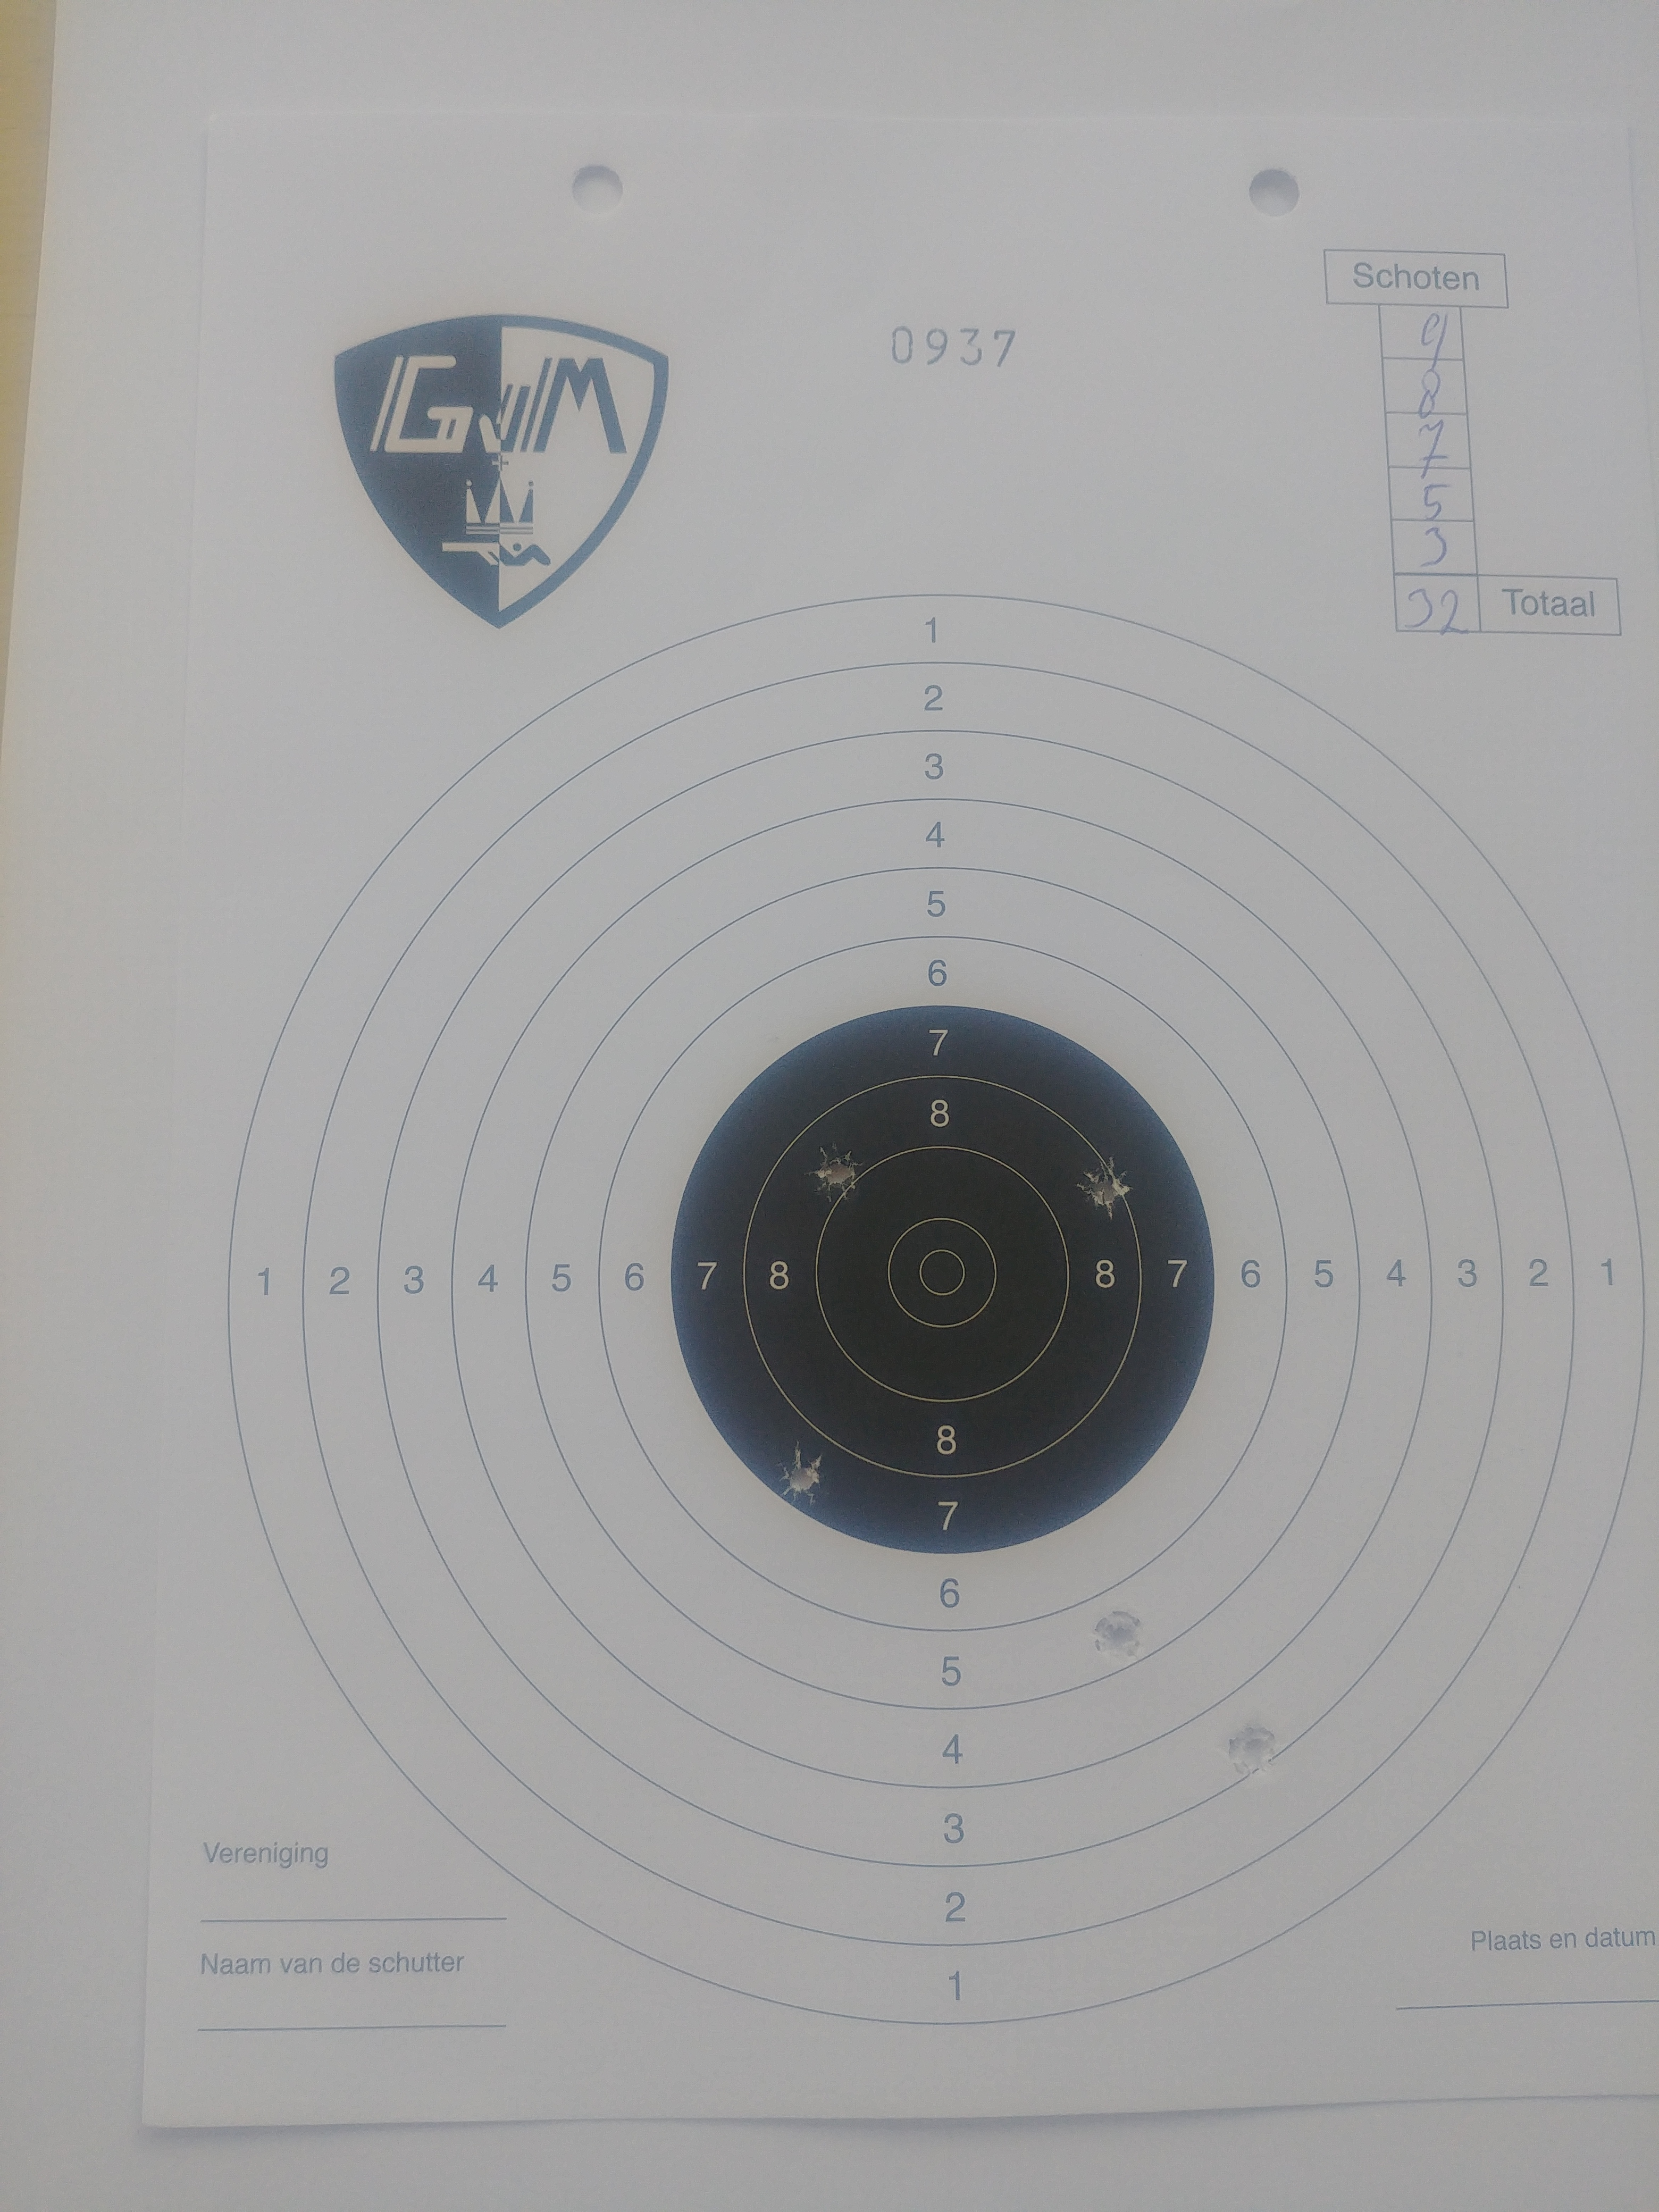center: (669, 1003, 1218, 1559)
out: (223, 589, 1649, 2027)
shot: (1072, 1153, 1131, 1217), (1225, 1717, 1286, 1778), (1087, 1606, 1147, 1658), (775, 1444, 826, 1503), (807, 1141, 857, 1198)
target: (887, 1217, 999, 1329)
